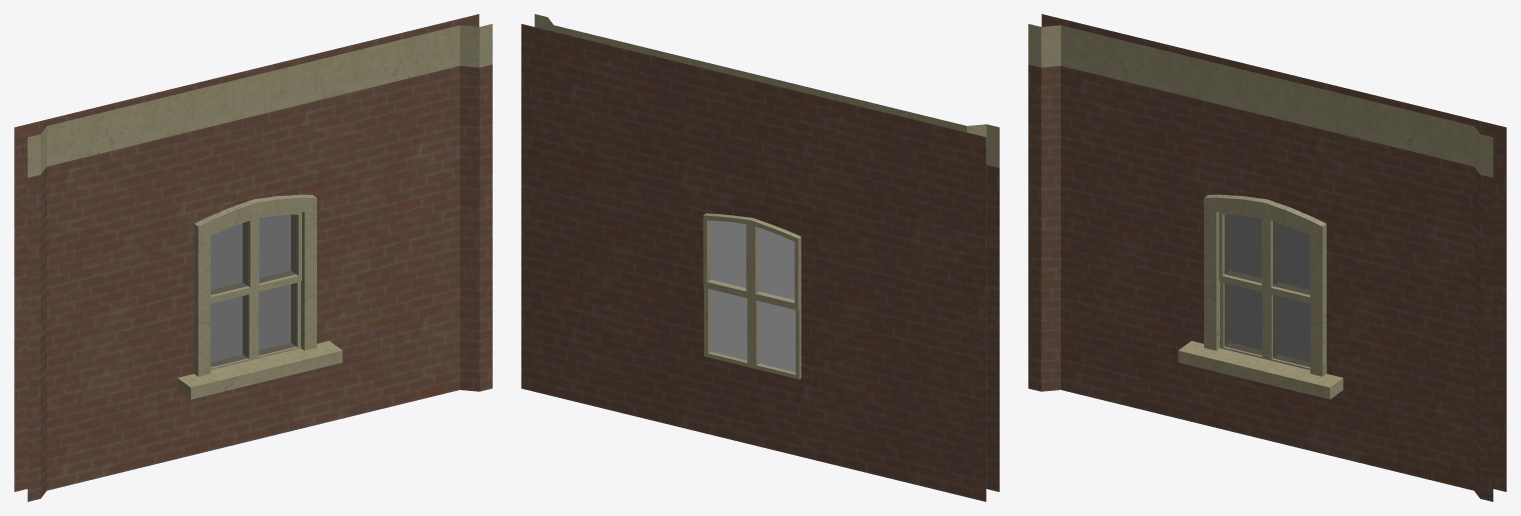
File: Brick_Inset_Window_Curved_Small.gltf
3 renders of one model, left to right at view 1: azimuth 30°, elevation 25°; view 2: azimuth 150°, elevation 25°; view 3: azimuth 330°, elevation 25°, orthographic.
Parts seen in each view (by area): view 1: Brick_Inset_Window_Curved_Small; view 2: Brick_Inset_Window_Curved_Small; view 3: Brick_Inset_Window_Curved_Small.
Part boxes in pixels (x1,y1,x2,y2): Brick_Inset_Window_Curved_Small: (14, 14, 492, 501); Brick_Inset_Window_Curved_Small: (521, 14, 999, 501); Brick_Inset_Window_Curved_Small: (1028, 14, 1506, 501).
Bounding box in the file's own units: 4 × 3 × 0.3426.
Materials: 5 (3 with a texture image).
